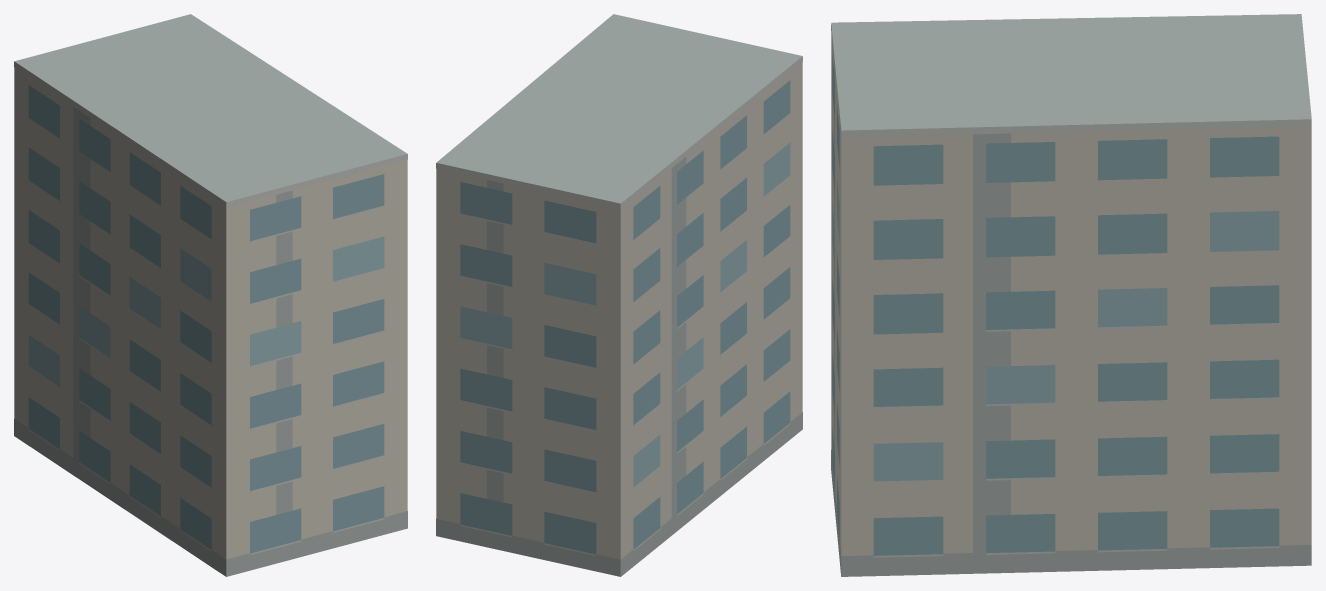
The model's file is survey-upis-32930659.glb.
3 renders of one model, left to right at view 1: azimuth 30°, elevation 25°; view 2: azimuth 150°, elevation 25°; view 3: azimuth 270°, elevation 25°, orthographic. The views are drawn at different scales.
Visible parts, largest first — view 1: survey-upis-32930659.tmp; view 2: survey-upis-32930659.tmp; view 3: survey-upis-32930659.tmp.
Part boxes in pixels (x1,y1,x2,y2): survey-upis-32930659.tmp: (14,14,407,576); survey-upis-32930659.tmp: (436,14,802,576); survey-upis-32930659.tmp: (831,14,1311,576).
Bounding box in the file's own units: 8.69 × 15.5 × 15.14.
